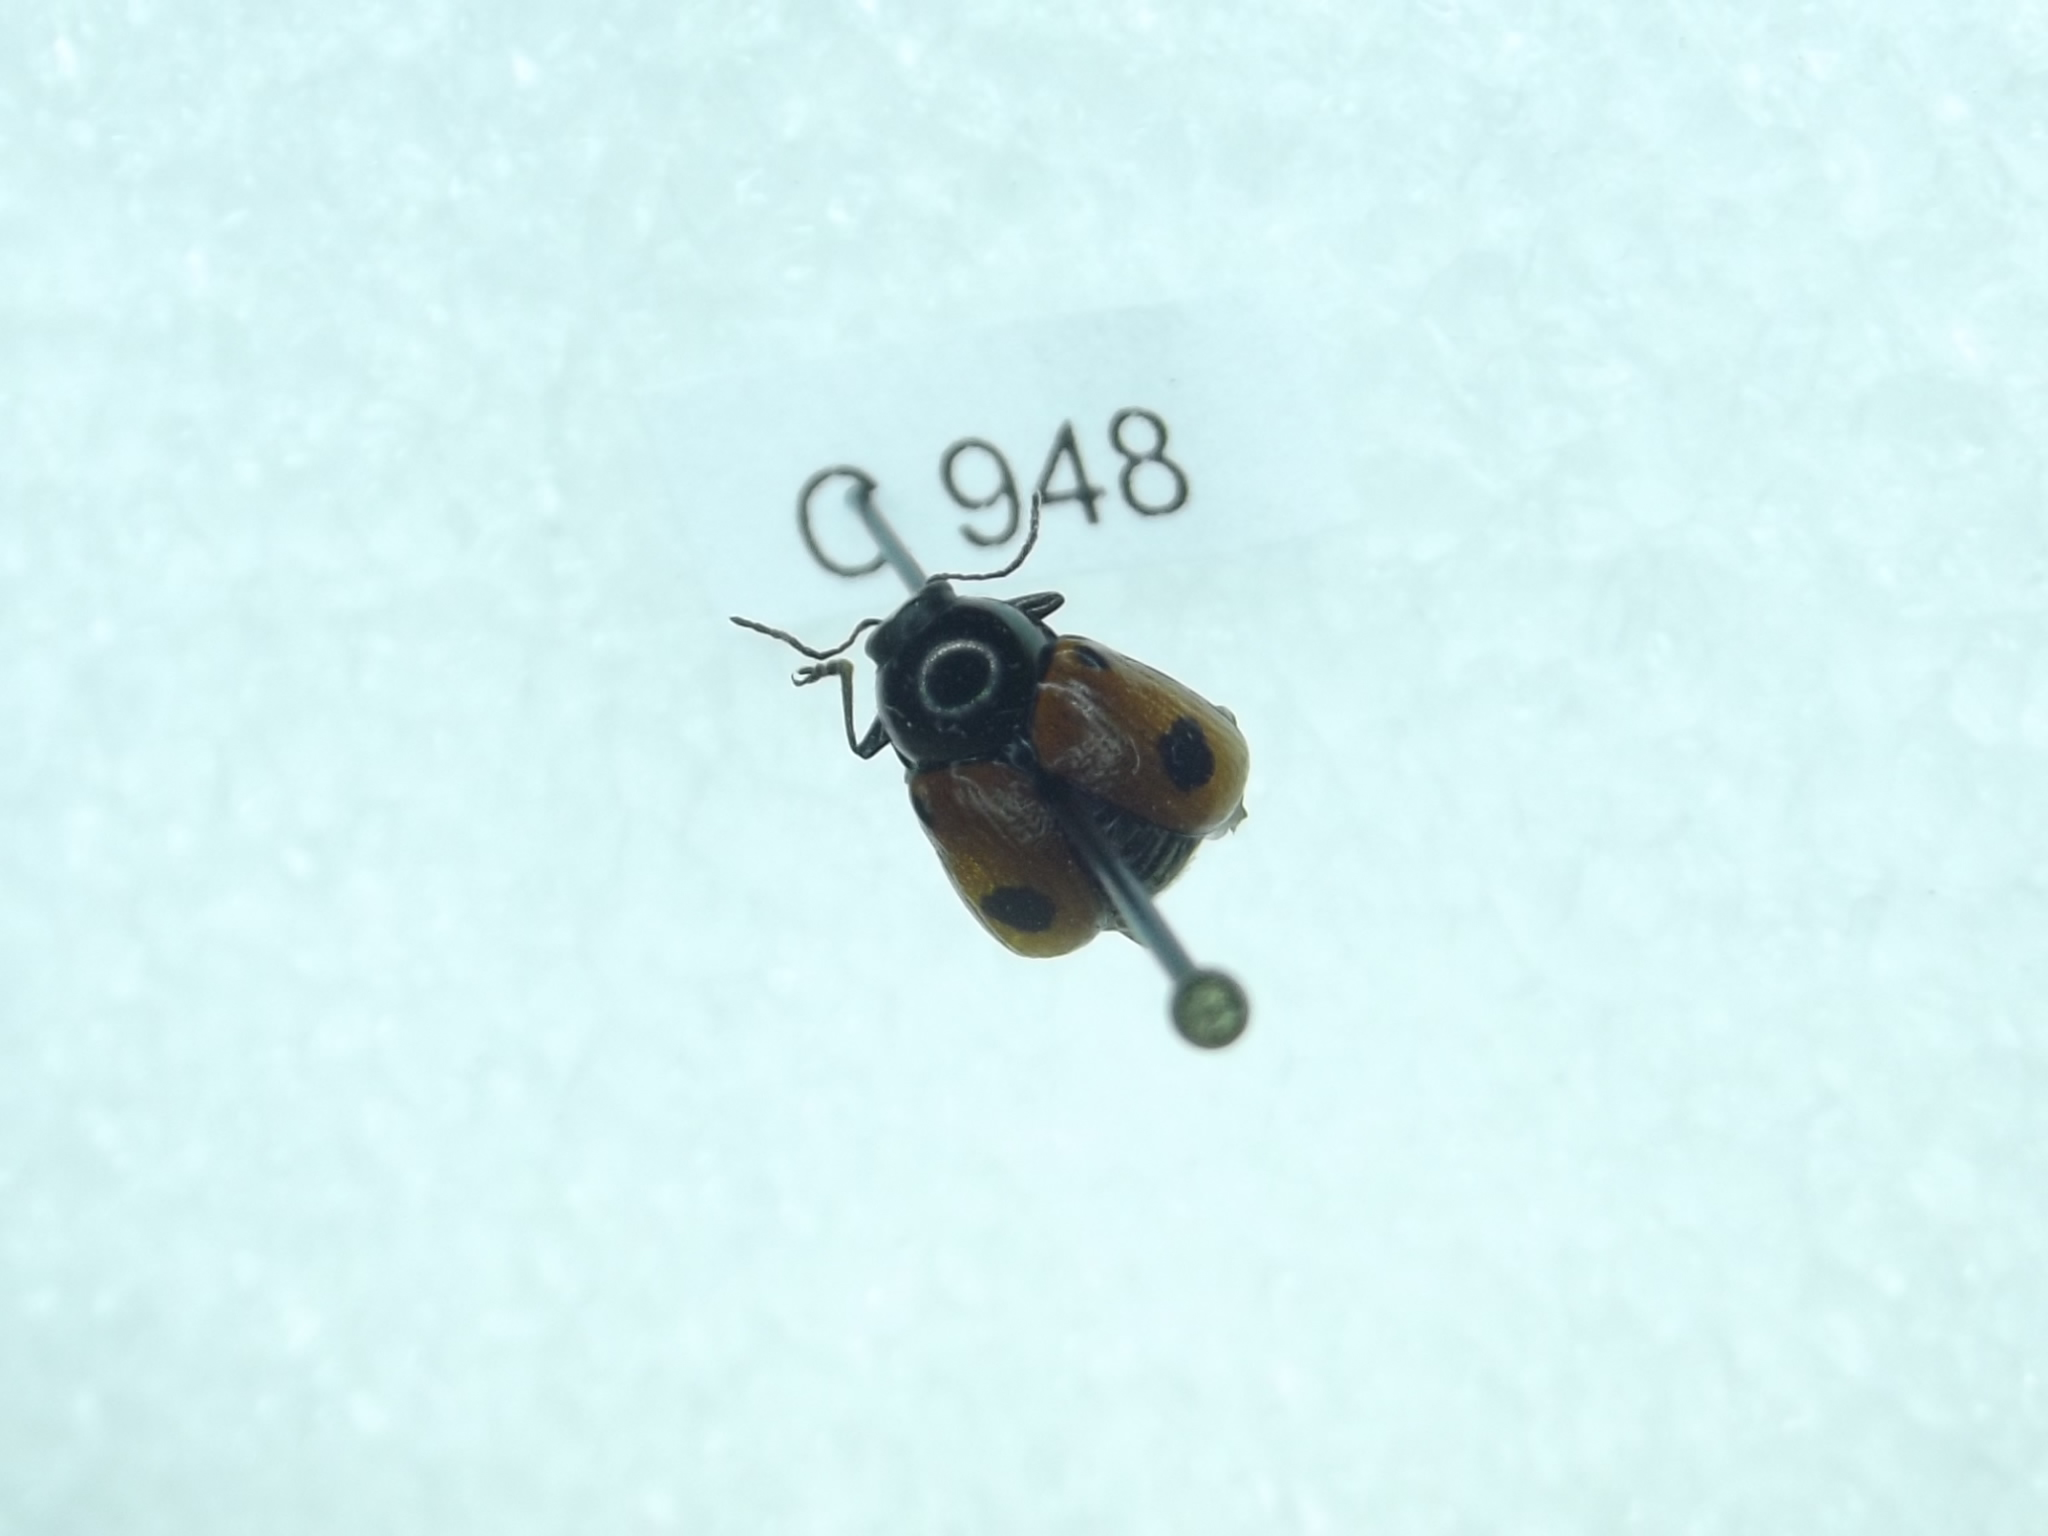Cryptocephalus_bipunctatus: (713, 478, 1268, 963)
